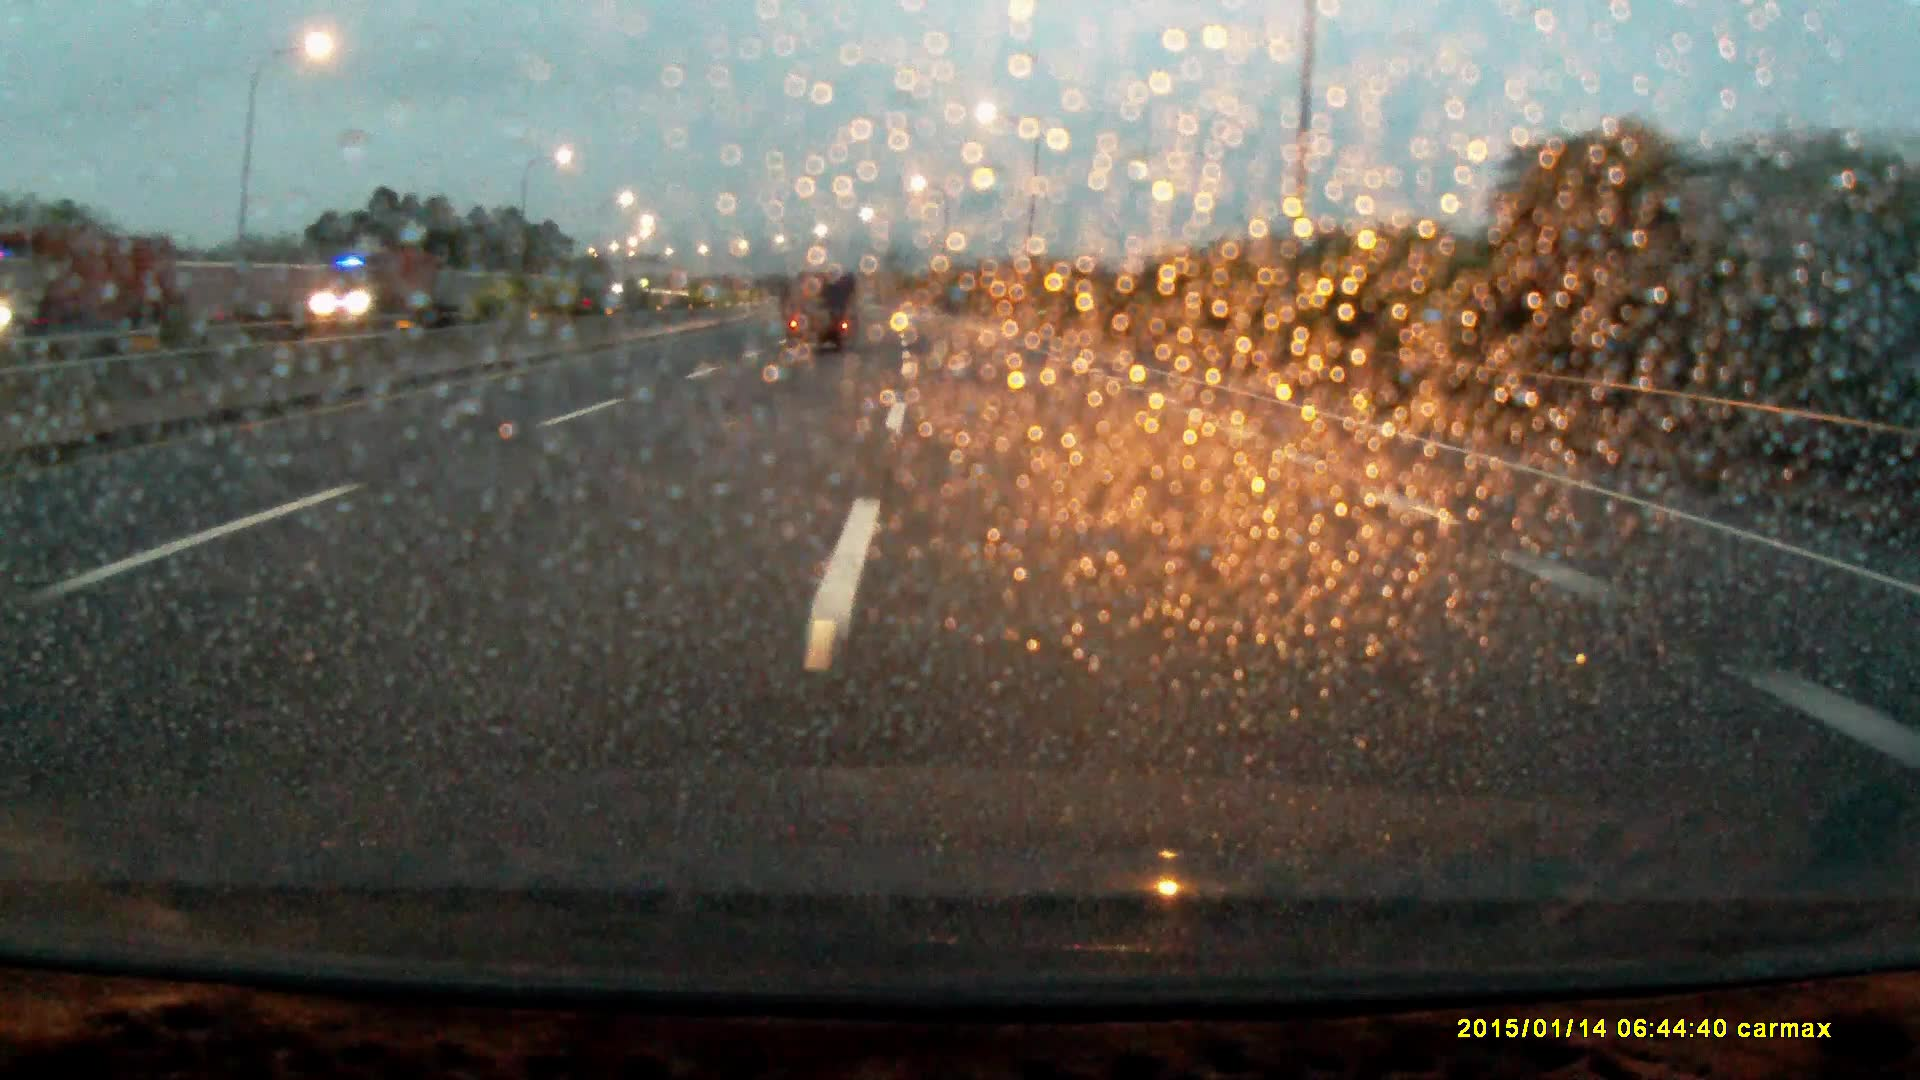vehicle: (309, 248, 435, 320), (781, 273, 860, 359)
